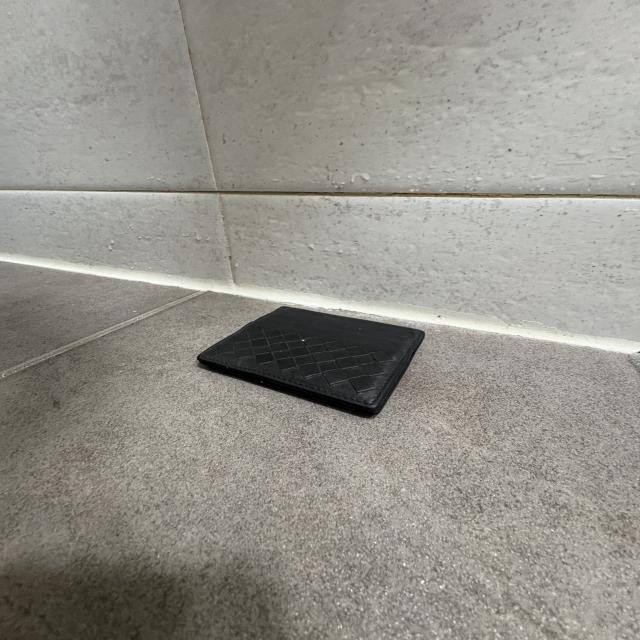wallet: (196, 305, 428, 418)
